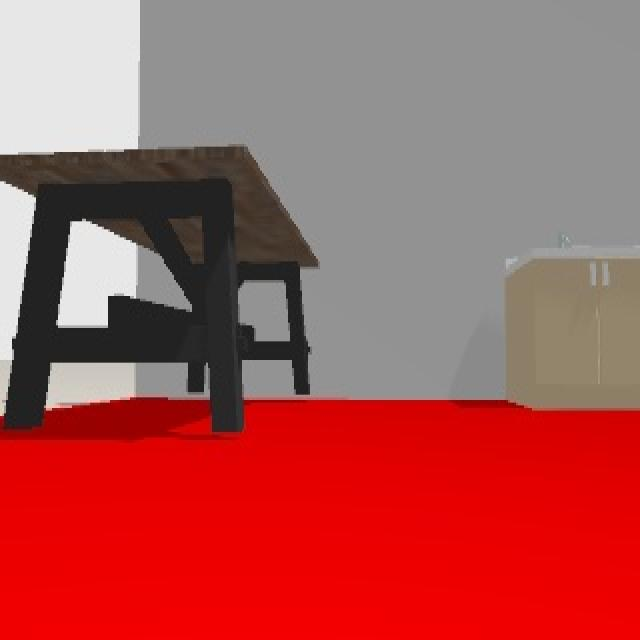dining: (2, 143, 317, 434)
